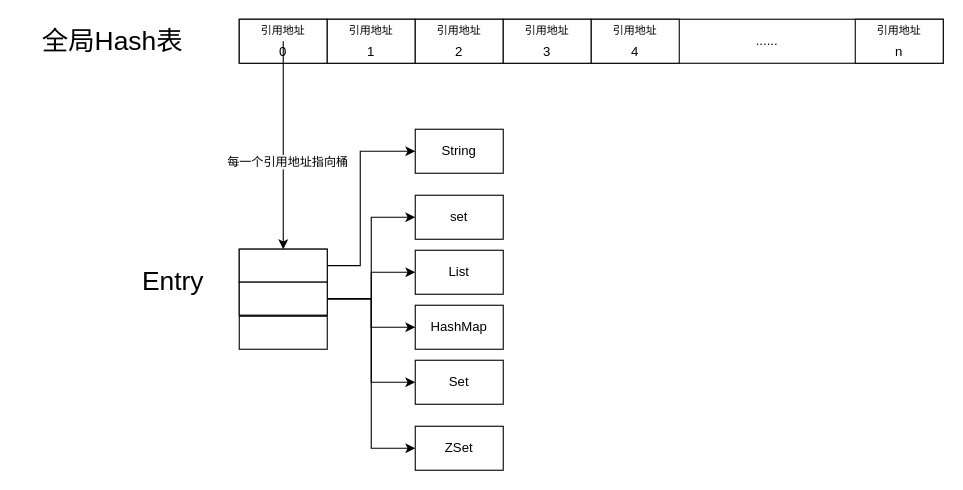
This 963x490 diagram has some shape labels left out. Each missing label, with the centre of its shape:
"key" belongs at (x=282, y=265).
"next" belongs at (x=282, y=332).
"value" belongs at (x=282, y=298).
